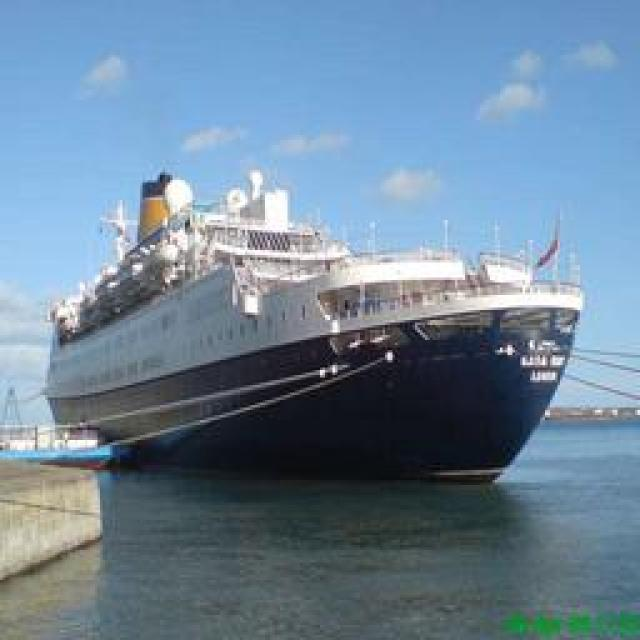CIV_Ship: (31, 182, 586, 470)
